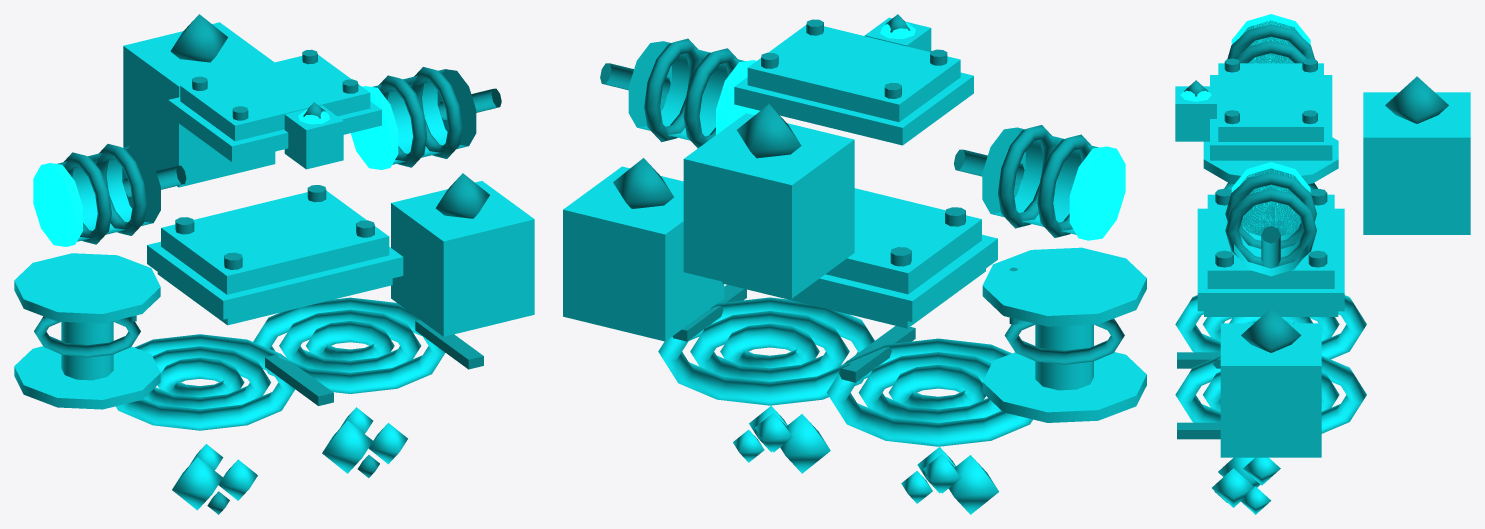
The model's file is golem_047.glb.
3 renders of one model, left to right at view 1: azimuth 30°, elevation 25°; view 2: azimuth 150°, elevation 25°; view 3: azimuth 270°, elevation 25°, orthographic. The views are drawn at different scales.
Parts seen in each view (by area): view 1: Body, Detail, Glow; view 2: Body, Detail, Glow; view 3: Body, Detail, Glow.
Part boxes in pixels (box(x1,y1,x2,y2)): Body: box(14, 22, 534, 510); Detail: box(34, 14, 501, 514); Glow: box(33, 86, 398, 246); Body: box(563, 17, 1146, 514); Detail: box(600, 14, 1124, 382); Glow: box(716, 22, 1125, 240); Body: box(1175, 20, 1470, 514); Detail: box(1177, 24, 1448, 502); Glow: box(1180, 14, 1310, 234).
Size of the model in its own units: 1.23 by 0.99 by 0.6731.
